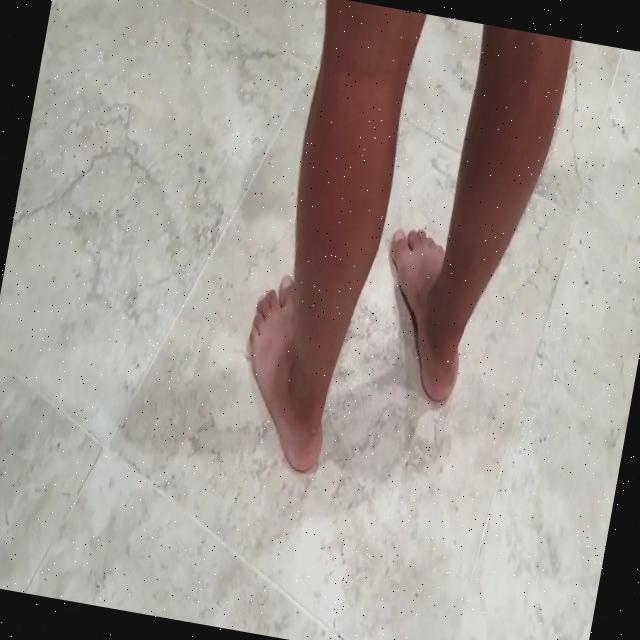no-boots: (219, 253, 359, 487), (362, 203, 498, 421)
